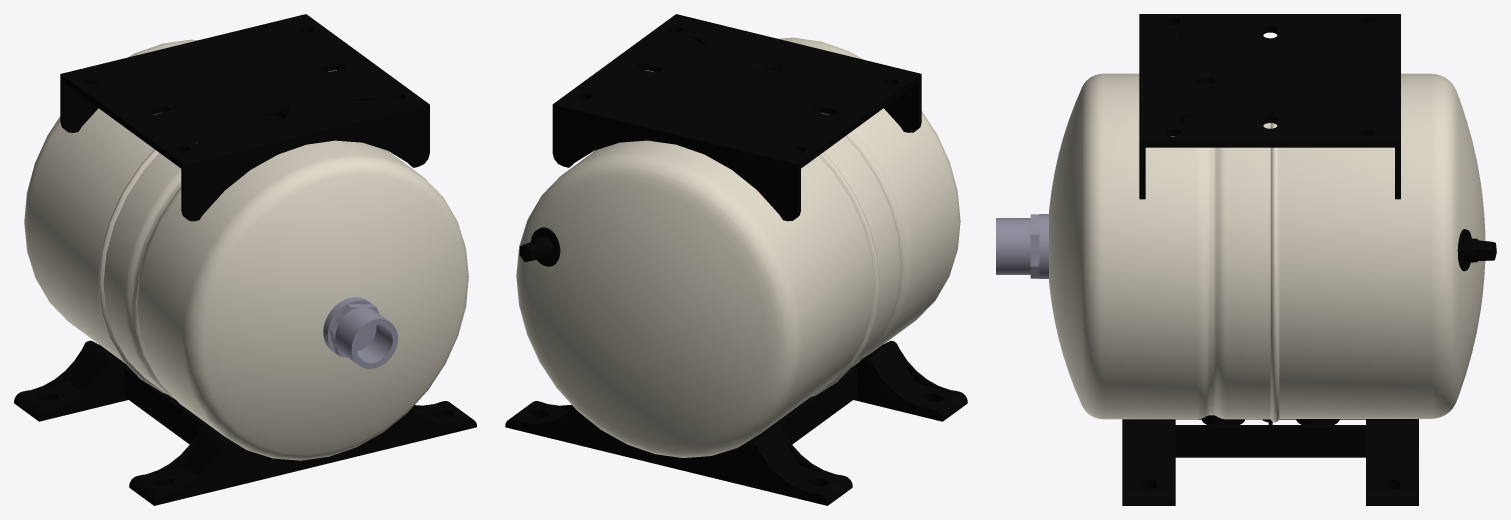
File: 12lt-sabit-yatay.fbx
3 views of the same model, side by side, from view 1: azimuth 30°, elevation 25°; view 2: azimuth 150°, elevation 25°; view 3: azimuth 270°, elevation 25° (orthographic). The views are drawn at different scales.
Parts seen in each view (by area): view 1: 12lt-sabit-tank-yatay.003, 12lt-sabit-tank-yatay, 12lt-sabit-tank-yatay.008, 12lt-sabit-tank-yatay.016, 12lt-sabit-tank-yatay.009, 12lt-sabit-tank-yatay.007; view 2: 12lt-sabit-tank-yatay.008, 12lt-sabit-tank-yatay, 12lt-sabit-tank-yatay.003, 12lt-sabit-tank-yatay.016, 12lt-sabit-tank-yatay.007, 12lt-sabit-tank-yatay.002; view 3: 12lt-sabit-tank-yatay.003, 12lt-sabit-tank-yatay.008, 12lt-sabit-tank-yatay, 12lt-sabit-tank-yatay.016, 12lt-sabit-tank-yatay.009, 12lt-sabit-tank-yatay.007, 12lt-sabit-tank-yatay.002.
Part boxes in pixels (bbox=[...]): 12lt-sabit-tank-yatay.003: bbox=[103, 140, 468, 460]; 12lt-sabit-tank-yatay: bbox=[60, 14, 429, 221]; 12lt-sabit-tank-yatay.008: bbox=[24, 39, 197, 363]; 12lt-sabit-tank-yatay.016: bbox=[14, 340, 476, 505]; 12lt-sabit-tank-yatay.009: bbox=[323, 297, 398, 368]; 12lt-sabit-tank-yatay.007: bbox=[98, 149, 165, 393]; 12lt-sabit-tank-yatay.008: bbox=[516, 140, 874, 457]; 12lt-sabit-tank-yatay: bbox=[552, 14, 921, 221]; 12lt-sabit-tank-yatay.003: bbox=[778, 37, 960, 379]; 12lt-sabit-tank-yatay.016: bbox=[505, 340, 967, 505]; 12lt-sabit-tank-yatay.007: bbox=[811, 152, 879, 396]; 12lt-sabit-tank-yatay.002: bbox=[519, 227, 560, 266]; 12lt-sabit-tank-yatay.003: bbox=[1049, 73, 1270, 419]; 12lt-sabit-tank-yatay.008: bbox=[1279, 73, 1485, 418]; 12lt-sabit-tank-yatay: bbox=[1139, 14, 1400, 199]; 12lt-sabit-tank-yatay.016: bbox=[1122, 415, 1418, 505]; 12lt-sabit-tank-yatay.009: bbox=[996, 214, 1048, 278]; 12lt-sabit-tank-yatay.007: bbox=[1270, 123, 1279, 422]; 12lt-sabit-tank-yatay.002: bbox=[1457, 229, 1496, 271].
Size of the model in its own units: 2769 by 2676 by 3520.
